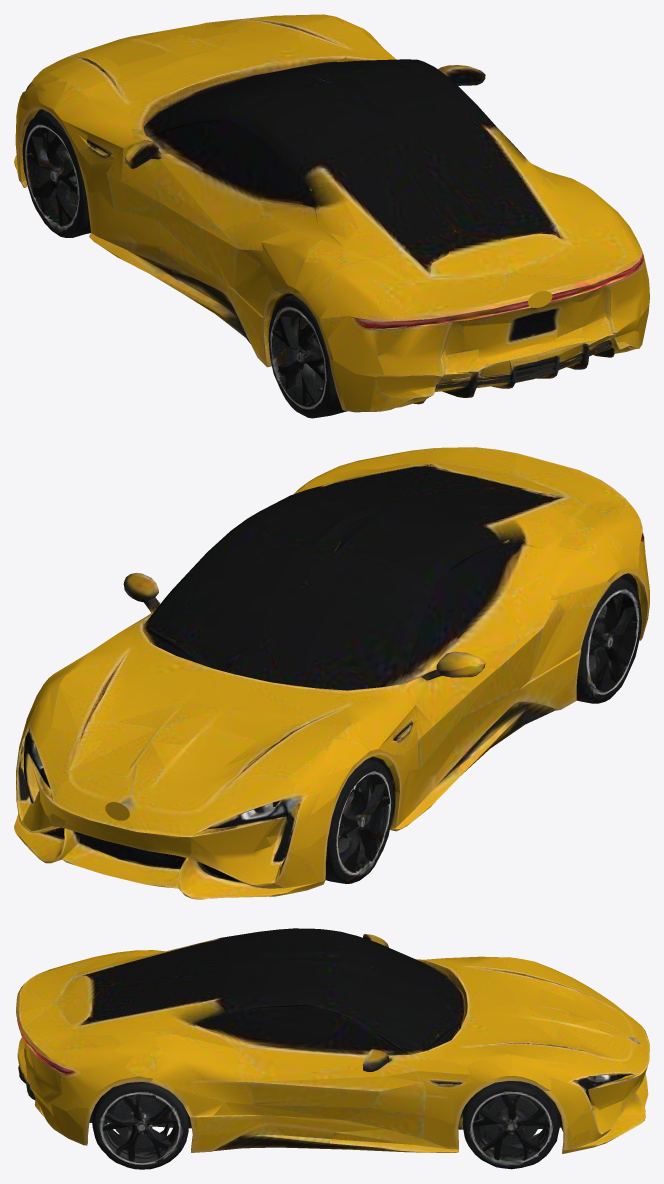
File: teleopVehCoupe.83b731ca.glb
3 renders of one model, top to bottom at view 1: azimuth 30°, elevation 25°; view 2: azimuth 150°, elevation 25°; view 3: azimuth 270°, elevation 25°, orthographic. The views are drawn at different scales.
Parts seen in each view (by area): view 1: output_unwrapped; view 2: output_unwrapped; view 3: output_unwrapped.
Boxes of the visible parts, x1,y1,x2,y2 form: output_unwrapped: [14, 14, 649, 418]; output_unwrapped: [14, 447, 649, 899]; output_unwrapped: [16, 928, 649, 1169].
Size of the model in its own units: 0.9245 by 0.5271 by 1.91.
Materials: 3 (1 with a texture image).
